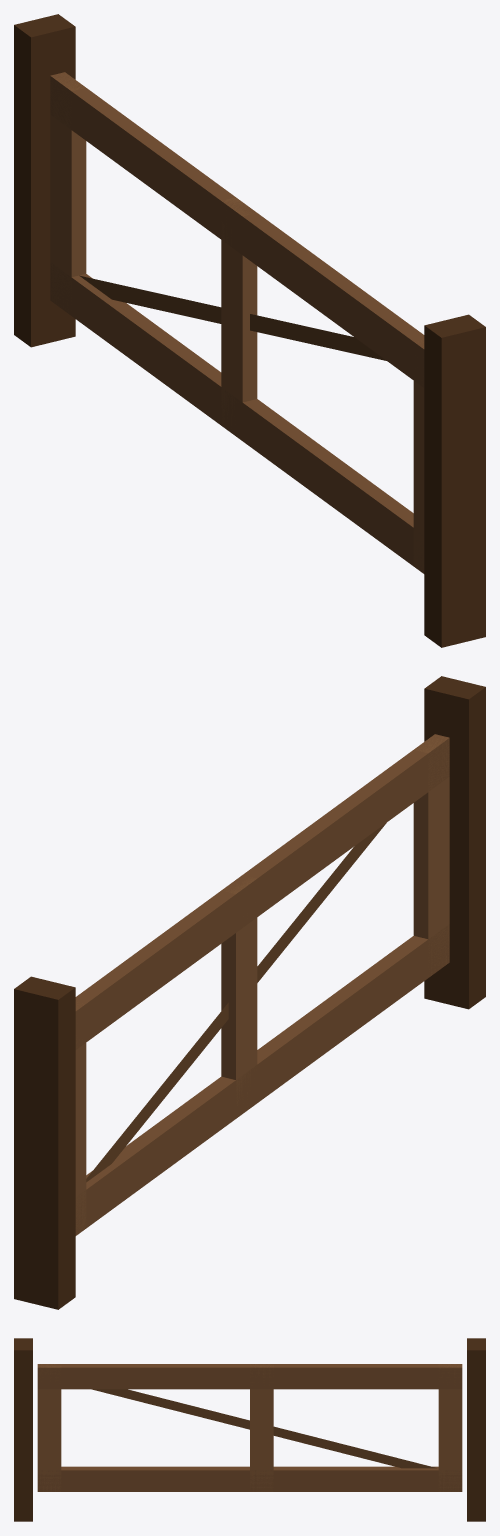
File: fence-rail-gate.glb
3 views of the same model, one above another, from view 1: azimuth 30°, elevation 25°; view 2: azimuth 150°, elevation 25°; view 3: azimuth 270°, elevation 25° (orthographic). The views are drawn at different scales.
Parts seen in each view (by area): view 1: fence-rail-gate; view 2: fence-rail-gate; view 3: fence-rail-gate.
Boxes of the visible parts, <box> form: fence-rail-gate: <box>14,14,485,647</box>; fence-rail-gate: <box>14,676,485,1309</box>; fence-rail-gate: <box>14,1338,485,1521</box>.
Bounding box in the file's own units: 0.06 × 0.4 × 1.
